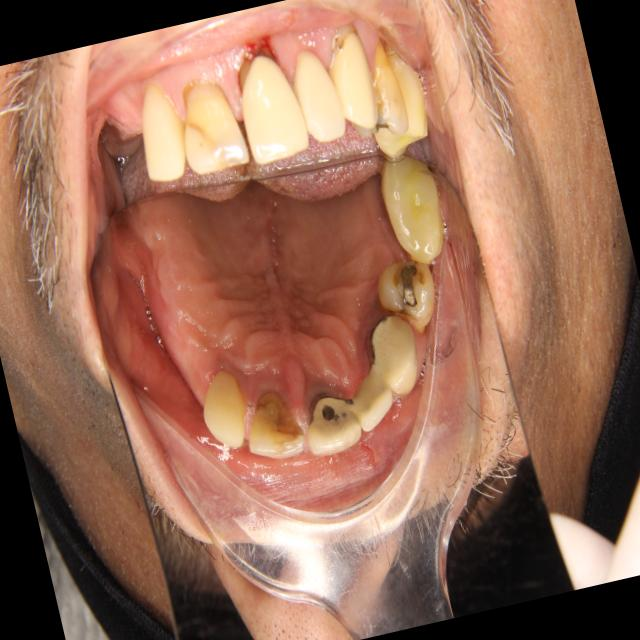tooth: (228, 360, 324, 491), (373, 144, 460, 277), (362, 236, 453, 349), (185, 353, 261, 476), (289, 369, 371, 471), (356, 299, 428, 404), (332, 357, 402, 440)
